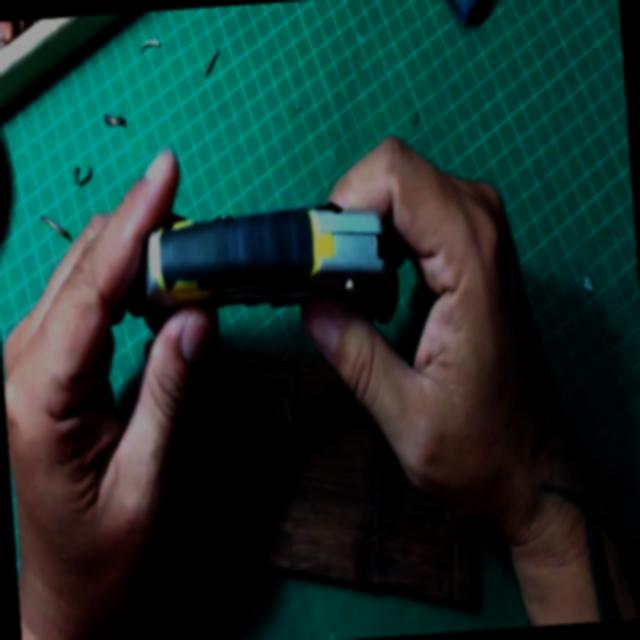cutter: (0, 110, 589, 612)
